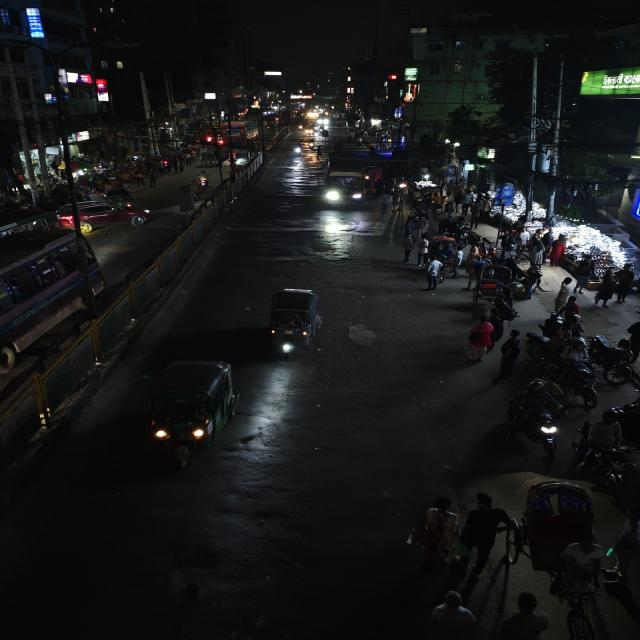bus: (0, 227, 106, 377), (324, 156, 368, 212)
car: (56, 198, 152, 232)
cng: (148, 355, 238, 471), (264, 284, 326, 362)
motorcycle: (503, 381, 566, 454), (592, 333, 640, 388), (196, 170, 212, 191)
pedestrian: (456, 491, 508, 583), (410, 494, 458, 570), (487, 589, 555, 640), (418, 588, 478, 640), (404, 511, 433, 560), (465, 317, 495, 363), (498, 328, 524, 378), (611, 262, 638, 306), (557, 295, 583, 333), (554, 275, 579, 311), (488, 298, 513, 330), (593, 274, 615, 310), (422, 256, 444, 290), (406, 236, 427, 266), (398, 233, 415, 264), (415, 235, 430, 268)
rickshaw: (510, 476, 620, 611), (466, 260, 516, 306)
